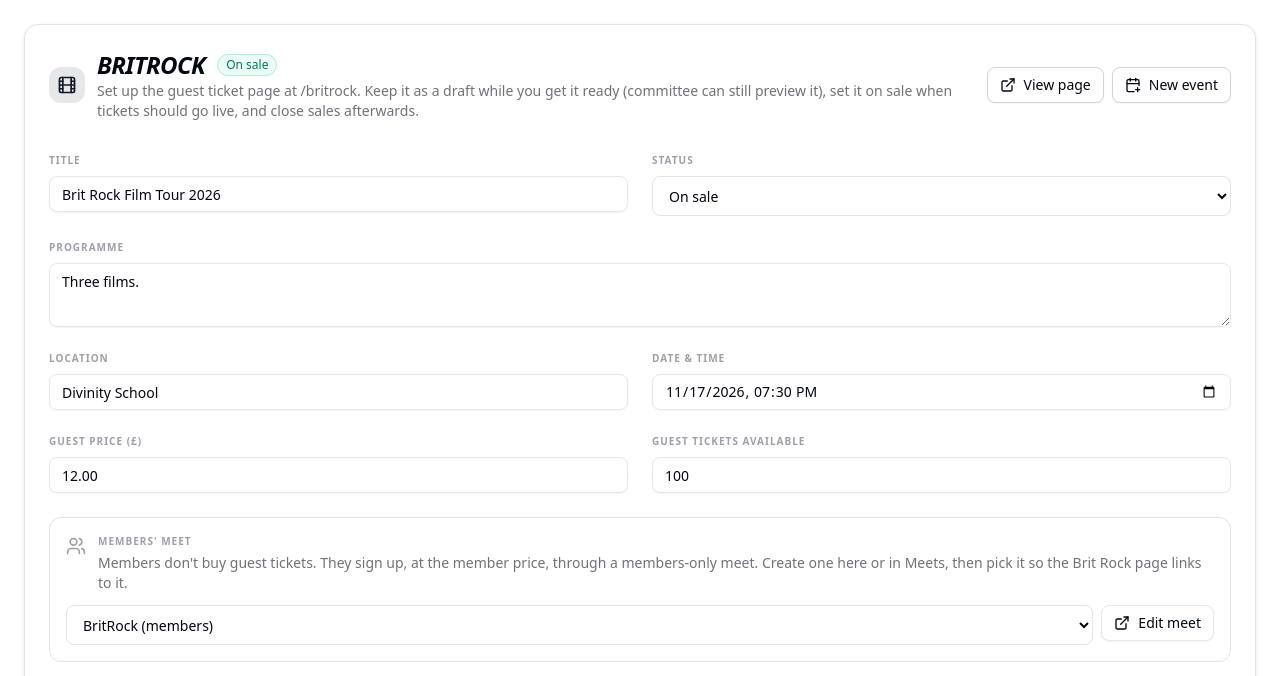
Scenario: BritRock committee page — editing › saves changes to the current event
The width and height of the screenshot is (1280, 676).
Expected: the field labelled "Title" is shown, [49,176,628,212]
Select "Sales closed" in the dropdown labelled "Status" at [942, 196], box [652,176,1231,216]
(page scrolled)
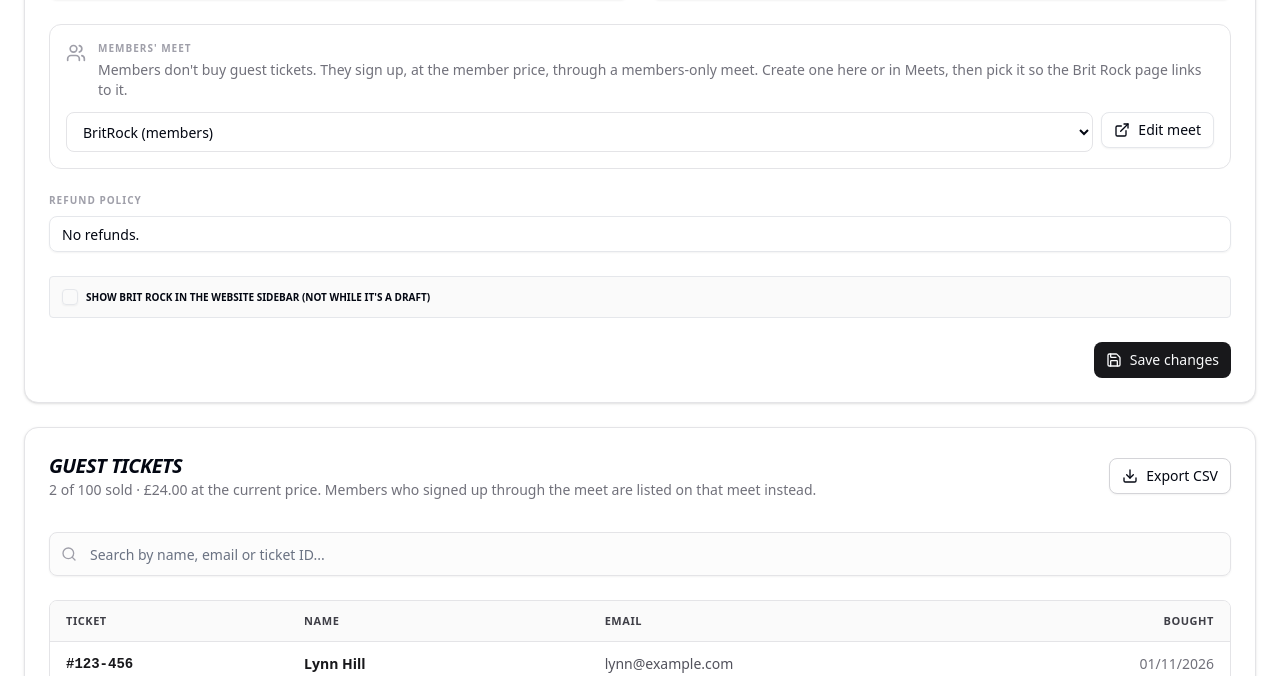
Click the button "Save changes" at [1162, 360], box [1094,342,1231,378]
(page scrolled)
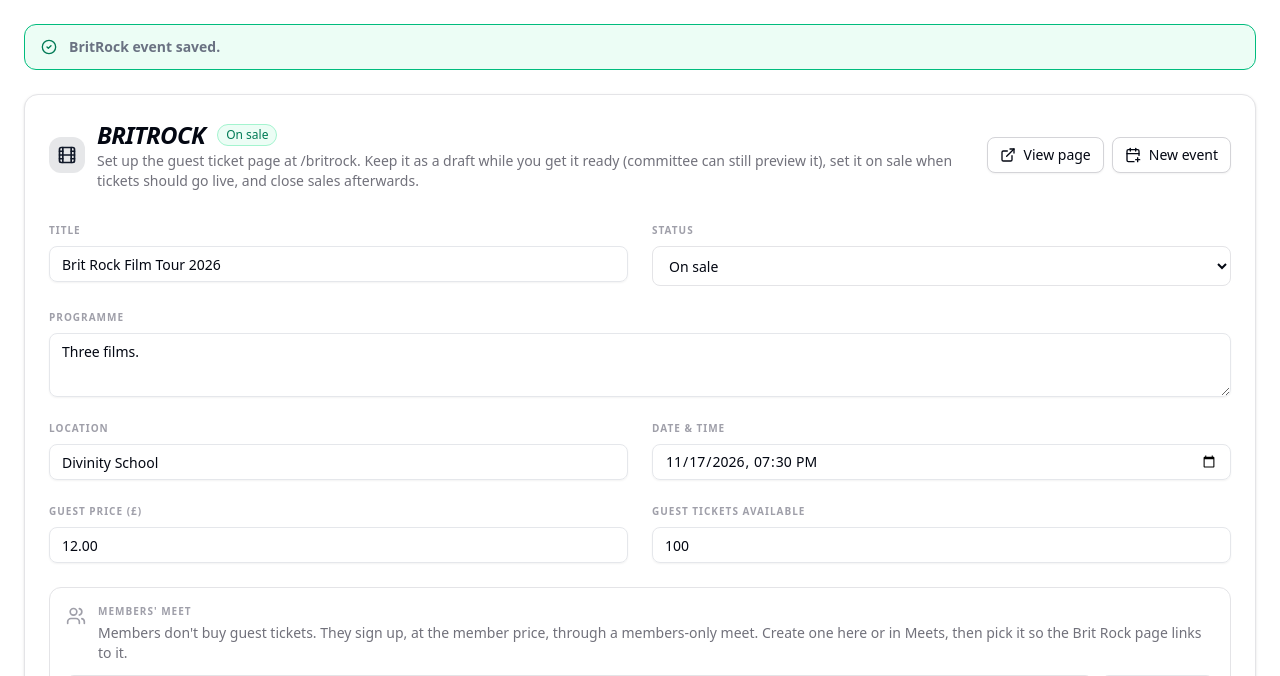
Result: the text "BritRock event saved." is shown at [69,37,220,56]
